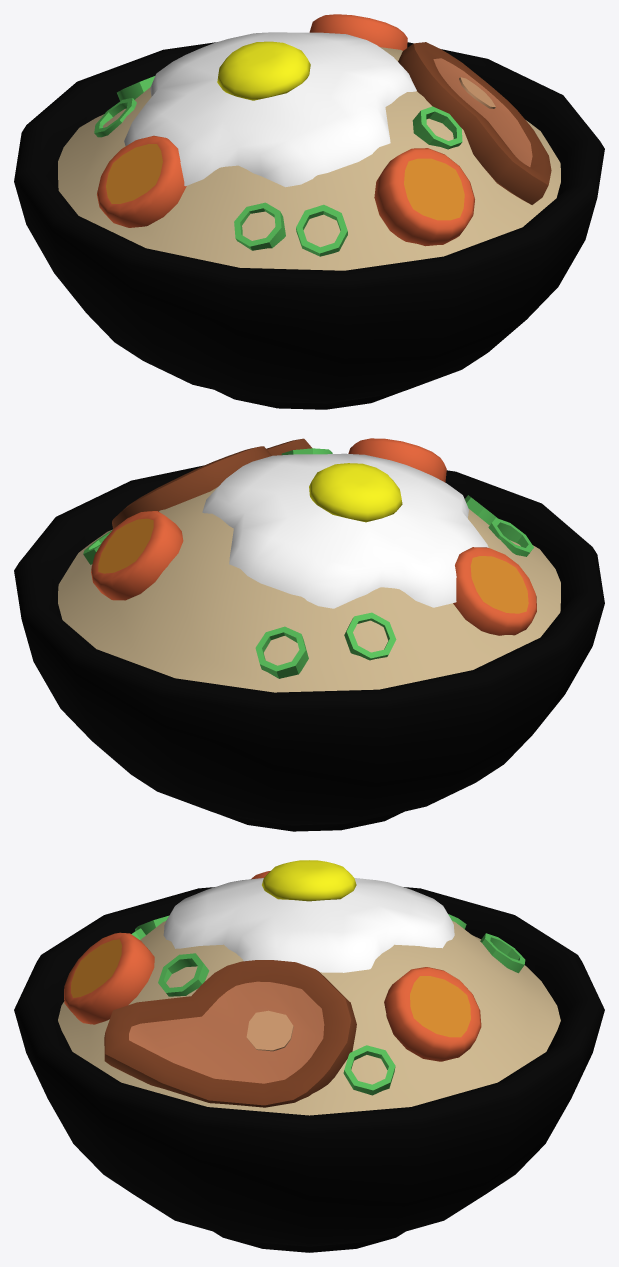
The model's file is ASFTR_Bowl_RiceHumanEggCarrotOnion 1.fbx.
3 renders of one model, top to bottom at view 1: azimuth 30°, elevation 25°; view 2: azimuth 150°, elevation 25°; view 3: azimuth 270°, elevation 25°, orthographic.
Parts seen in each view (by area): view 1: ASFTR_Bowl_RiceHumanEggCarrotOnion; view 2: ASFTR_Bowl_RiceHumanEggCarrotOnion; view 3: ASFTR_Bowl_RiceHumanEggCarrotOnion.
Part boxes in pixels (x1,y1,x2,y2): ASFTR_Bowl_RiceHumanEggCarrotOnion: [14, 14, 604, 409]; ASFTR_Bowl_RiceHumanEggCarrotOnion: [14, 438, 604, 831]; ASFTR_Bowl_RiceHumanEggCarrotOnion: [14, 860, 604, 1252].
Size of the model in its own units: 60.78 by 60.78 by 35.67.
